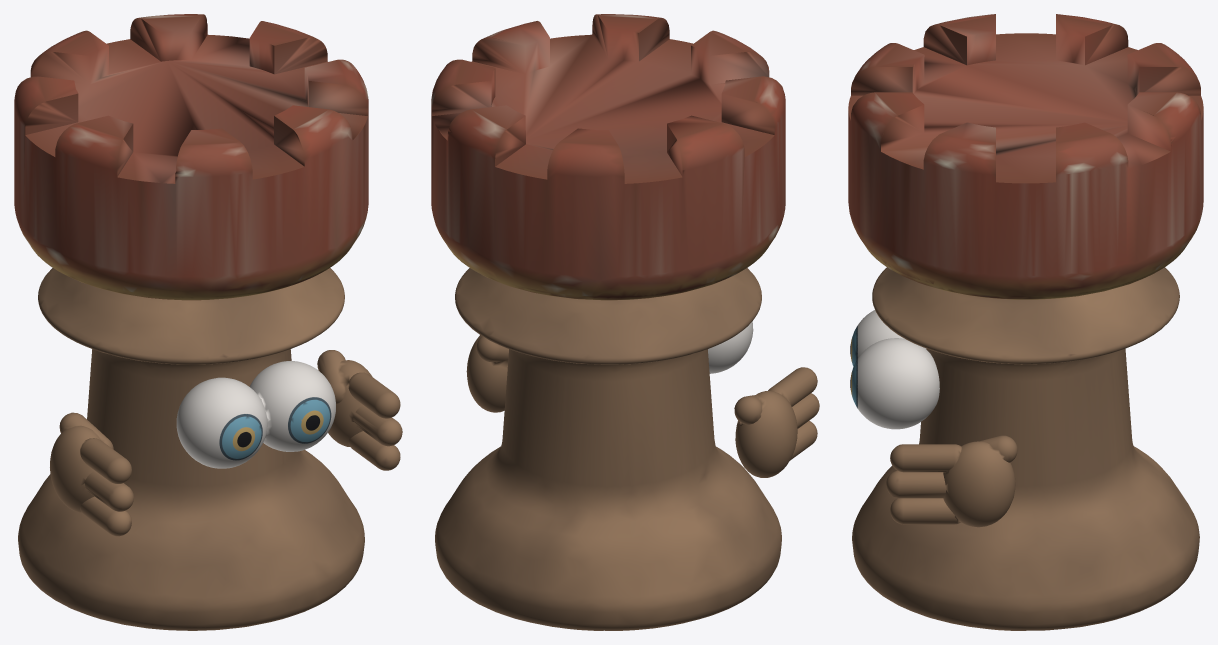
The model's file is rook-dark.glb.
3 renders of one model, left to right at view 1: azimuth 30°, elevation 25°; view 2: azimuth 150°, elevation 25°; view 3: azimuth 270°, elevation 25°, orthographic.
Parts seen in each view (by area): view 1: body, hand, eye; view 2: body, hand, eye; view 3: body, hand, eye.
Part boxes in pixels (x1,y1,x2,y2): body: [14, 14, 368, 630]; hand: [50, 350, 402, 536]; eye: [176, 361, 335, 468]; body: [431, 14, 785, 630]; hand: [466, 335, 819, 477]; eye: [708, 321, 753, 373]; body: [848, 14, 1203, 630]; hand: [886, 435, 1017, 527]; eye: [850, 310, 939, 429].
Bounding box in the file's own units: 2.32 × 3.39 × 2.24.
